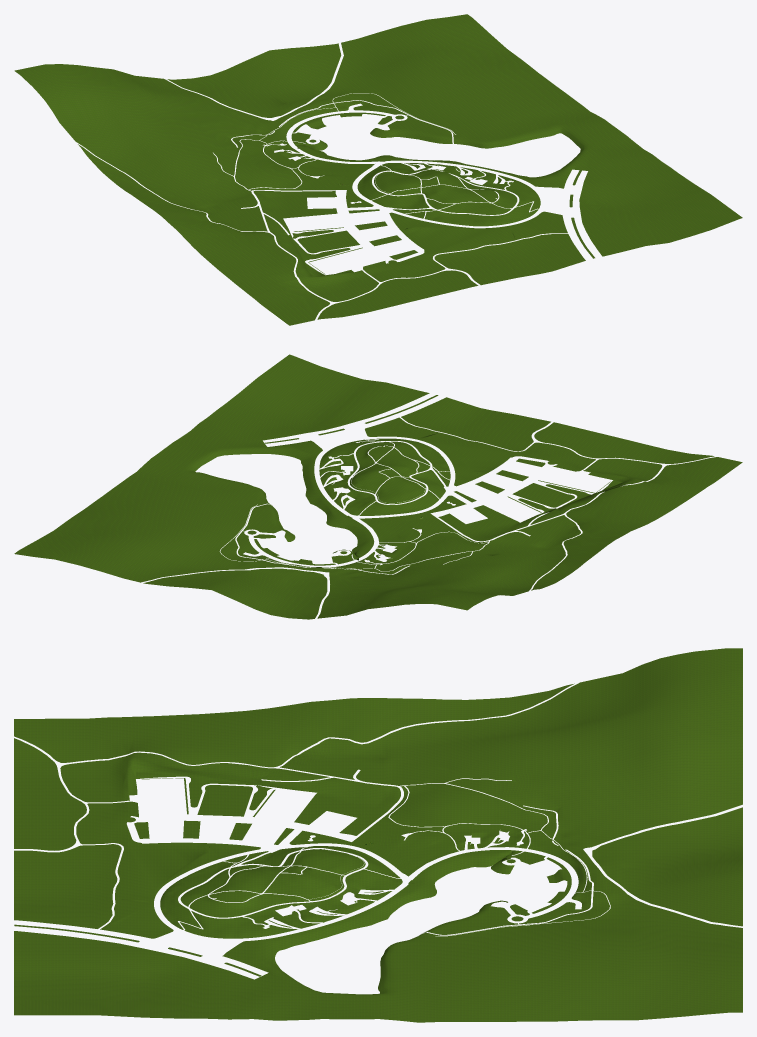
3 views of the same model, one above another, from view 1: azimuth 30°, elevation 25°; view 2: azimuth 150°, elevation 25°; view 3: azimuth 270°, elevation 25° (orthographic). The views are drawn at different scales.
Visible parts, largest first — view 1: 草4; view 2: 草4; view 3: 草4.
Part boxes in pixels (left/top/right/bottom): 草4: left=14, top=14, right=742, bottom=325; 草4: left=14, top=354, right=742, bottom=619; 草4: left=14, top=648, right=742, bottom=1022.
Size of the model in its own units: 1027 by 140 by 1080.
1 material, 1 textured.
